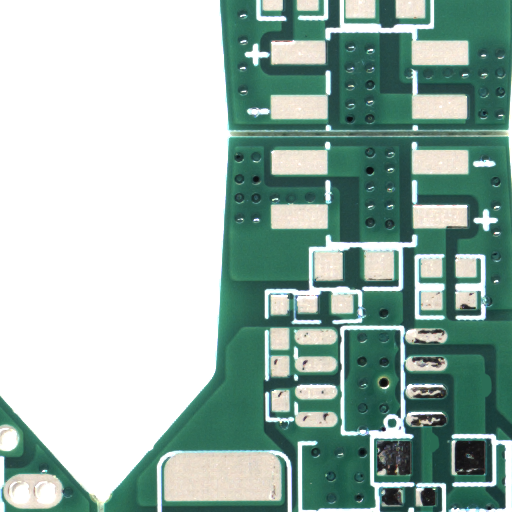Spur: (487, 385, 496, 409), (434, 443, 443, 464)
